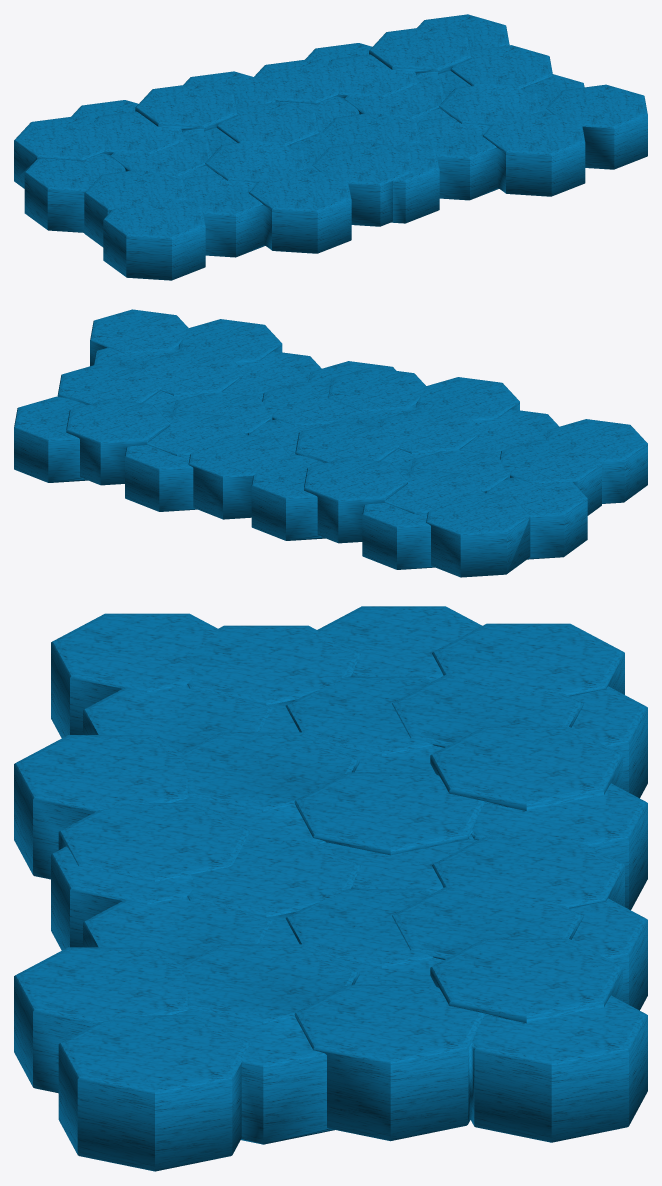
File: PlataformaSaltoDoble.FBX
3 renders of one model, top to bottom at view 1: azimuth 30°, elevation 25°; view 2: azimuth 150°, elevation 25°; view 3: azimuth 270°, elevation 25°, orthographic. The views are drawn at different scales.
Parts seen in each view (by area): view 1: PlataformaDoble; view 2: PlataformaDoble; view 3: PlataformaDoble.
Part boxes in pixels (x1=…): PlataformaDoble: x1=14, y1=14, x2=647, y2=280; PlataformaDoble: x1=14, y1=309, x2=647, y2=577; PlataformaDoble: x1=14, y1=606, x2=647, y2=1171.
Size of the model in its own units: 3528 by 1923 by 308.
1 material, 1 textured.
